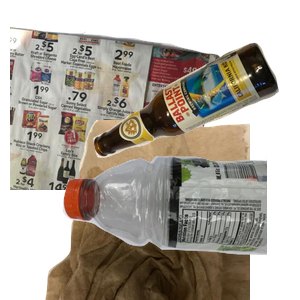glass: (91, 40, 300, 190)
paper: (10, 22, 225, 202)
plastic: (60, 152, 300, 300)
trash: (43, 120, 283, 300)
